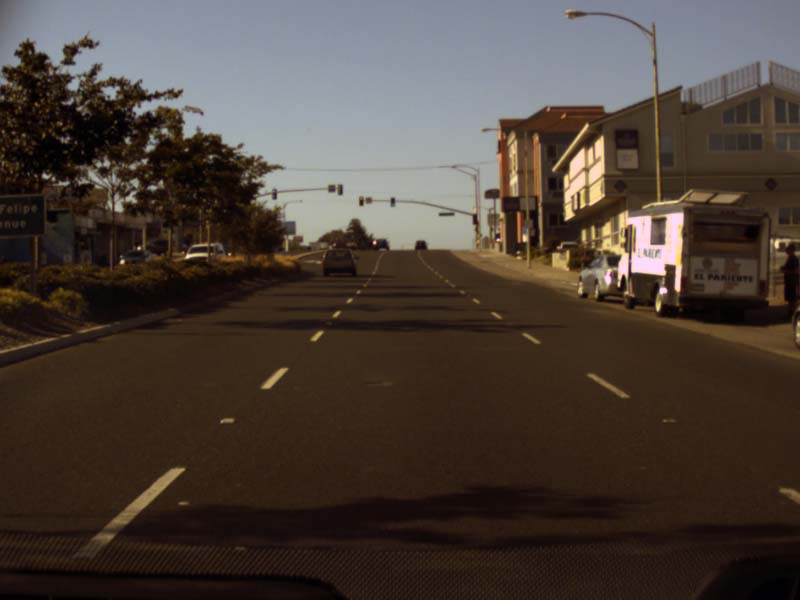Green: (390, 197, 395, 206)
Red: (358, 196, 363, 206)
